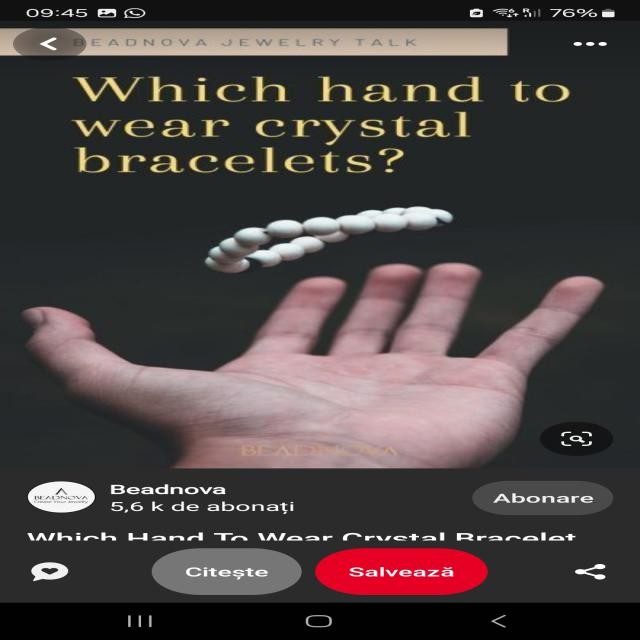hands: (25, 258, 640, 474)
